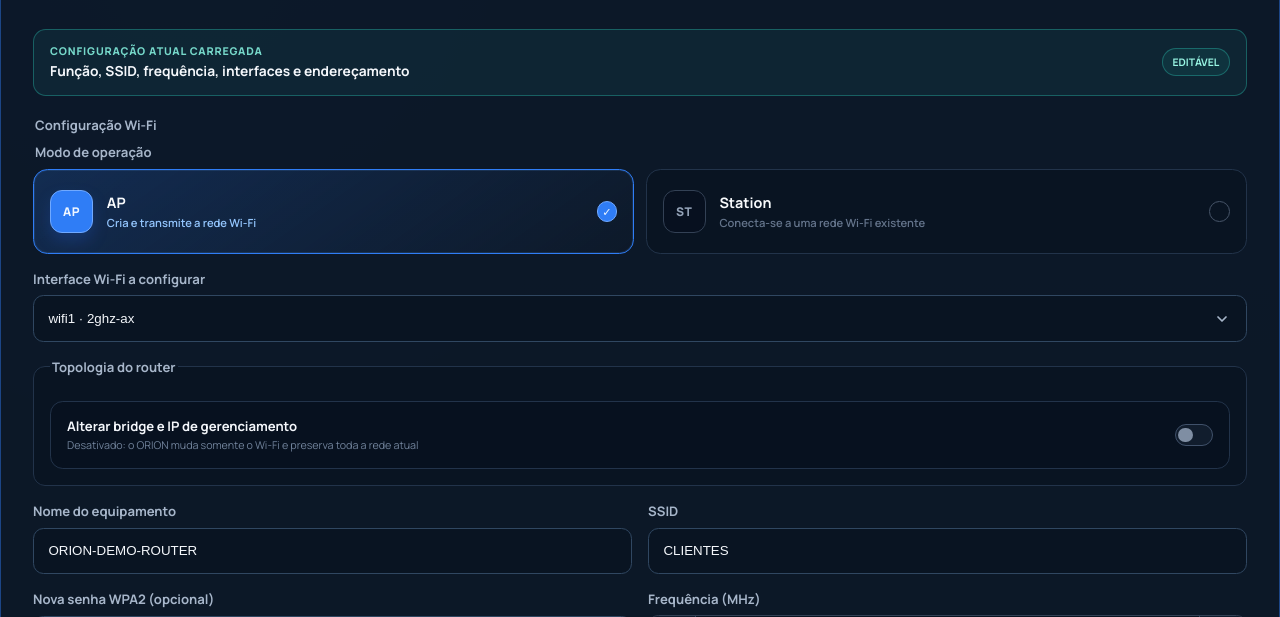
it: reconnecting alone never hides a radio setting that was not saved
The image size is (1280, 617).
Replace the text in the field labelled "SSID" with "REDE-NOVA" at (948, 551), box [648, 528, 1247, 574]
(page scrolled)
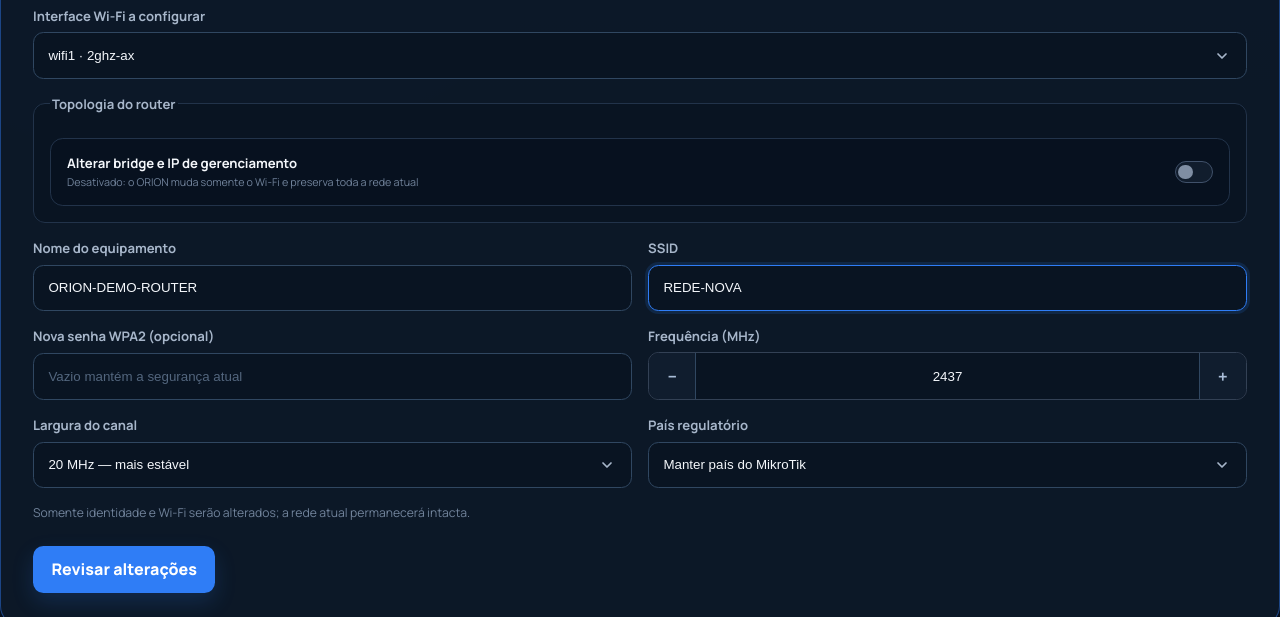
Click the button "Revisar alterações" at (124, 570), box [33, 546, 215, 593]
(page scrolled)
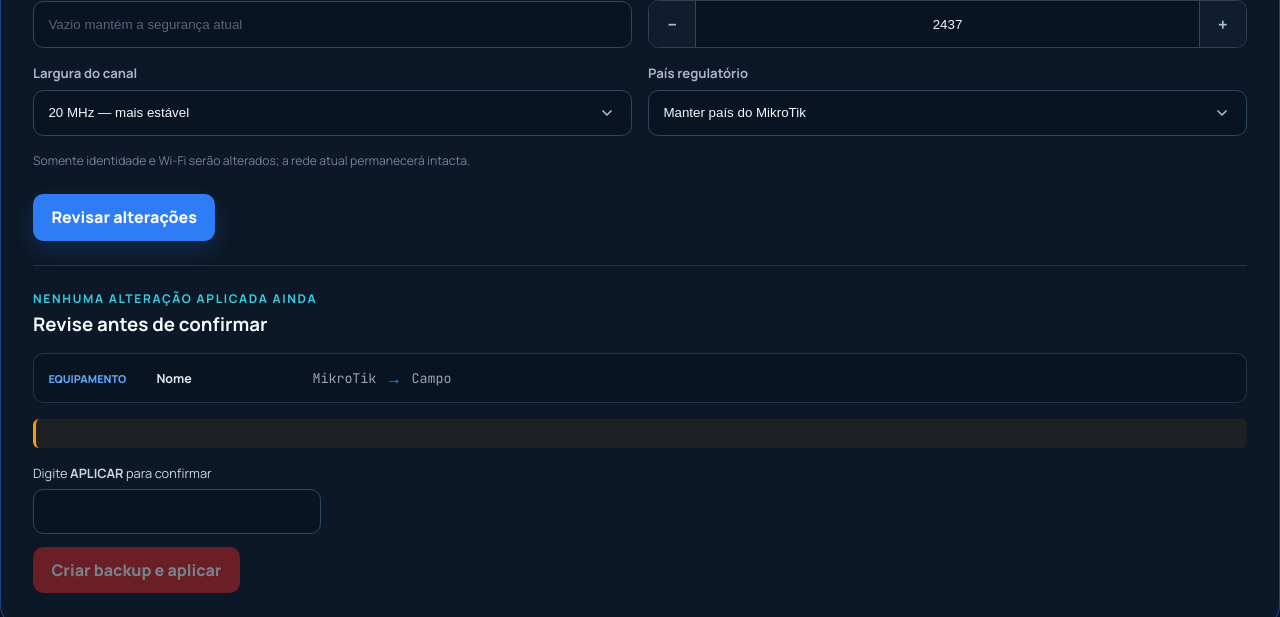
Type "APLICAR" into the field labelled "Digite APLICAR para confirmar" at (177, 511), box [33, 489, 321, 534]
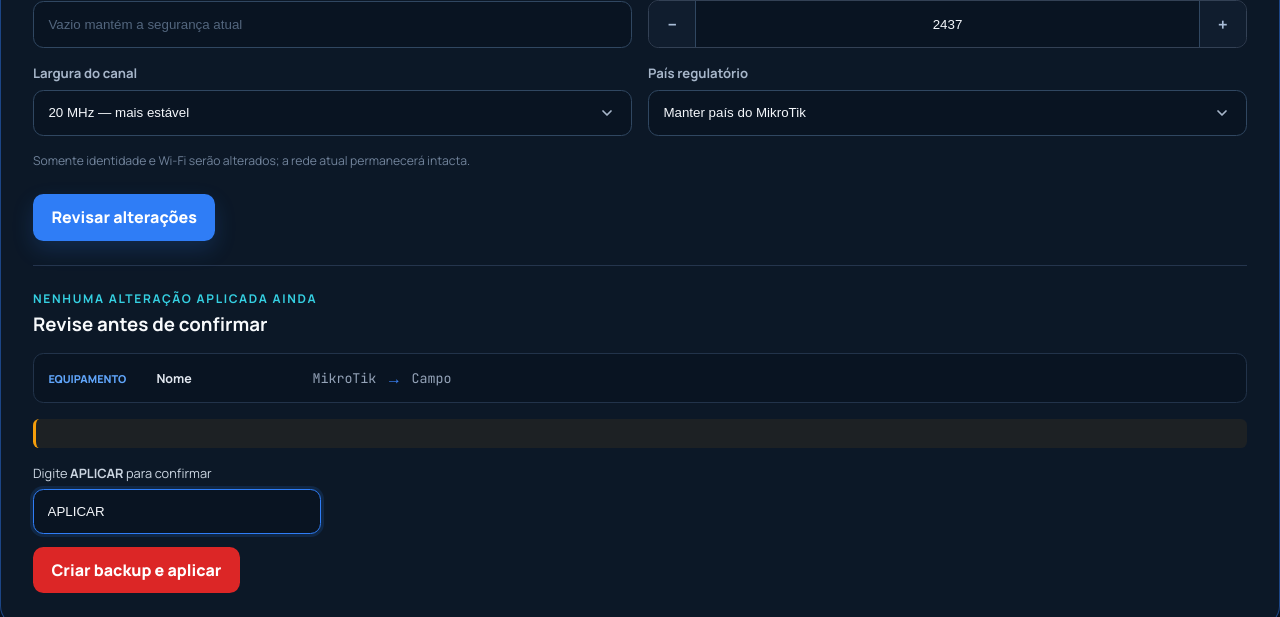
Click the button "Criar backup e aplicar" at (136, 570), box [33, 547, 240, 593]
(page scrolled)
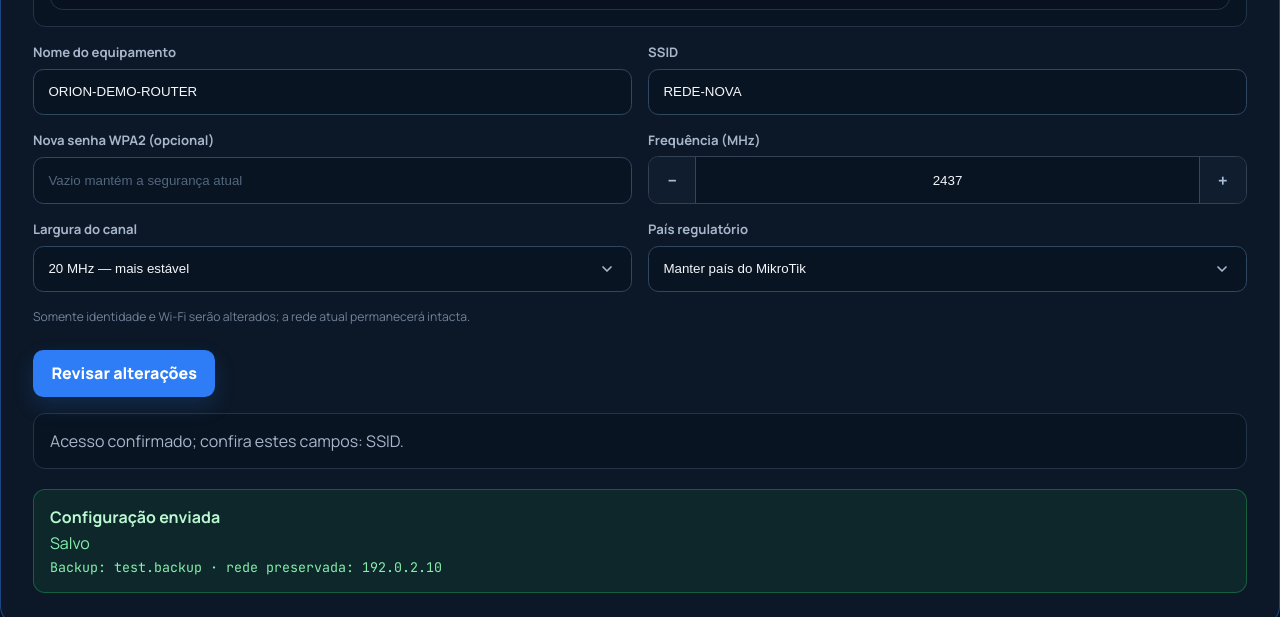
Check: the text "Acesso confirmado; confira estes campos: SSID." is shown, box [33, 413, 1247, 469]
